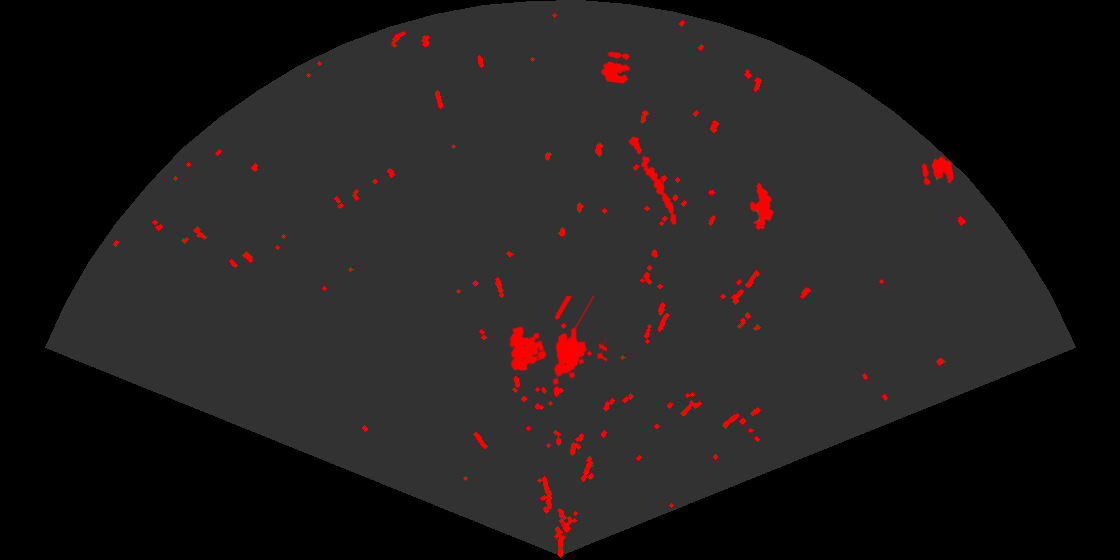AUV: (748, 181, 775, 232)
ball: (599, 50, 632, 85), (920, 155, 955, 187)
cage: (507, 296, 607, 386)
chain: (627, 135, 678, 226)
